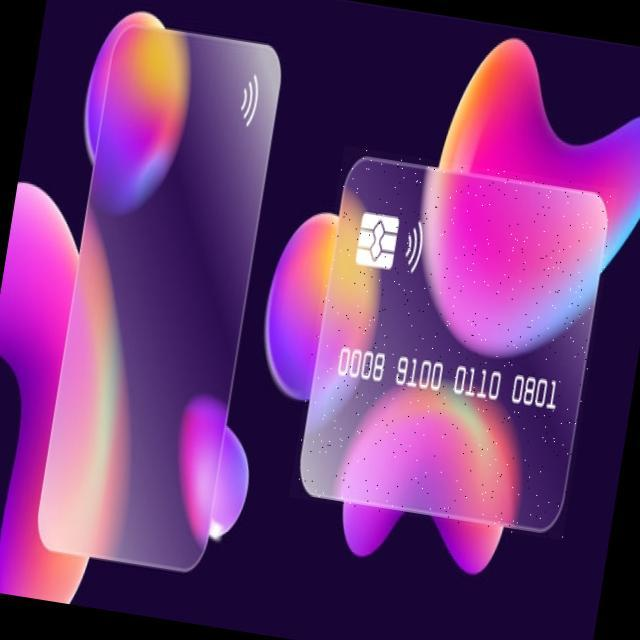payment_card: (298, 153, 608, 534)
